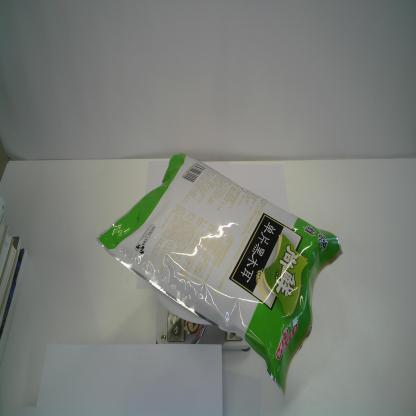Dried Food: (94, 150, 344, 403)
